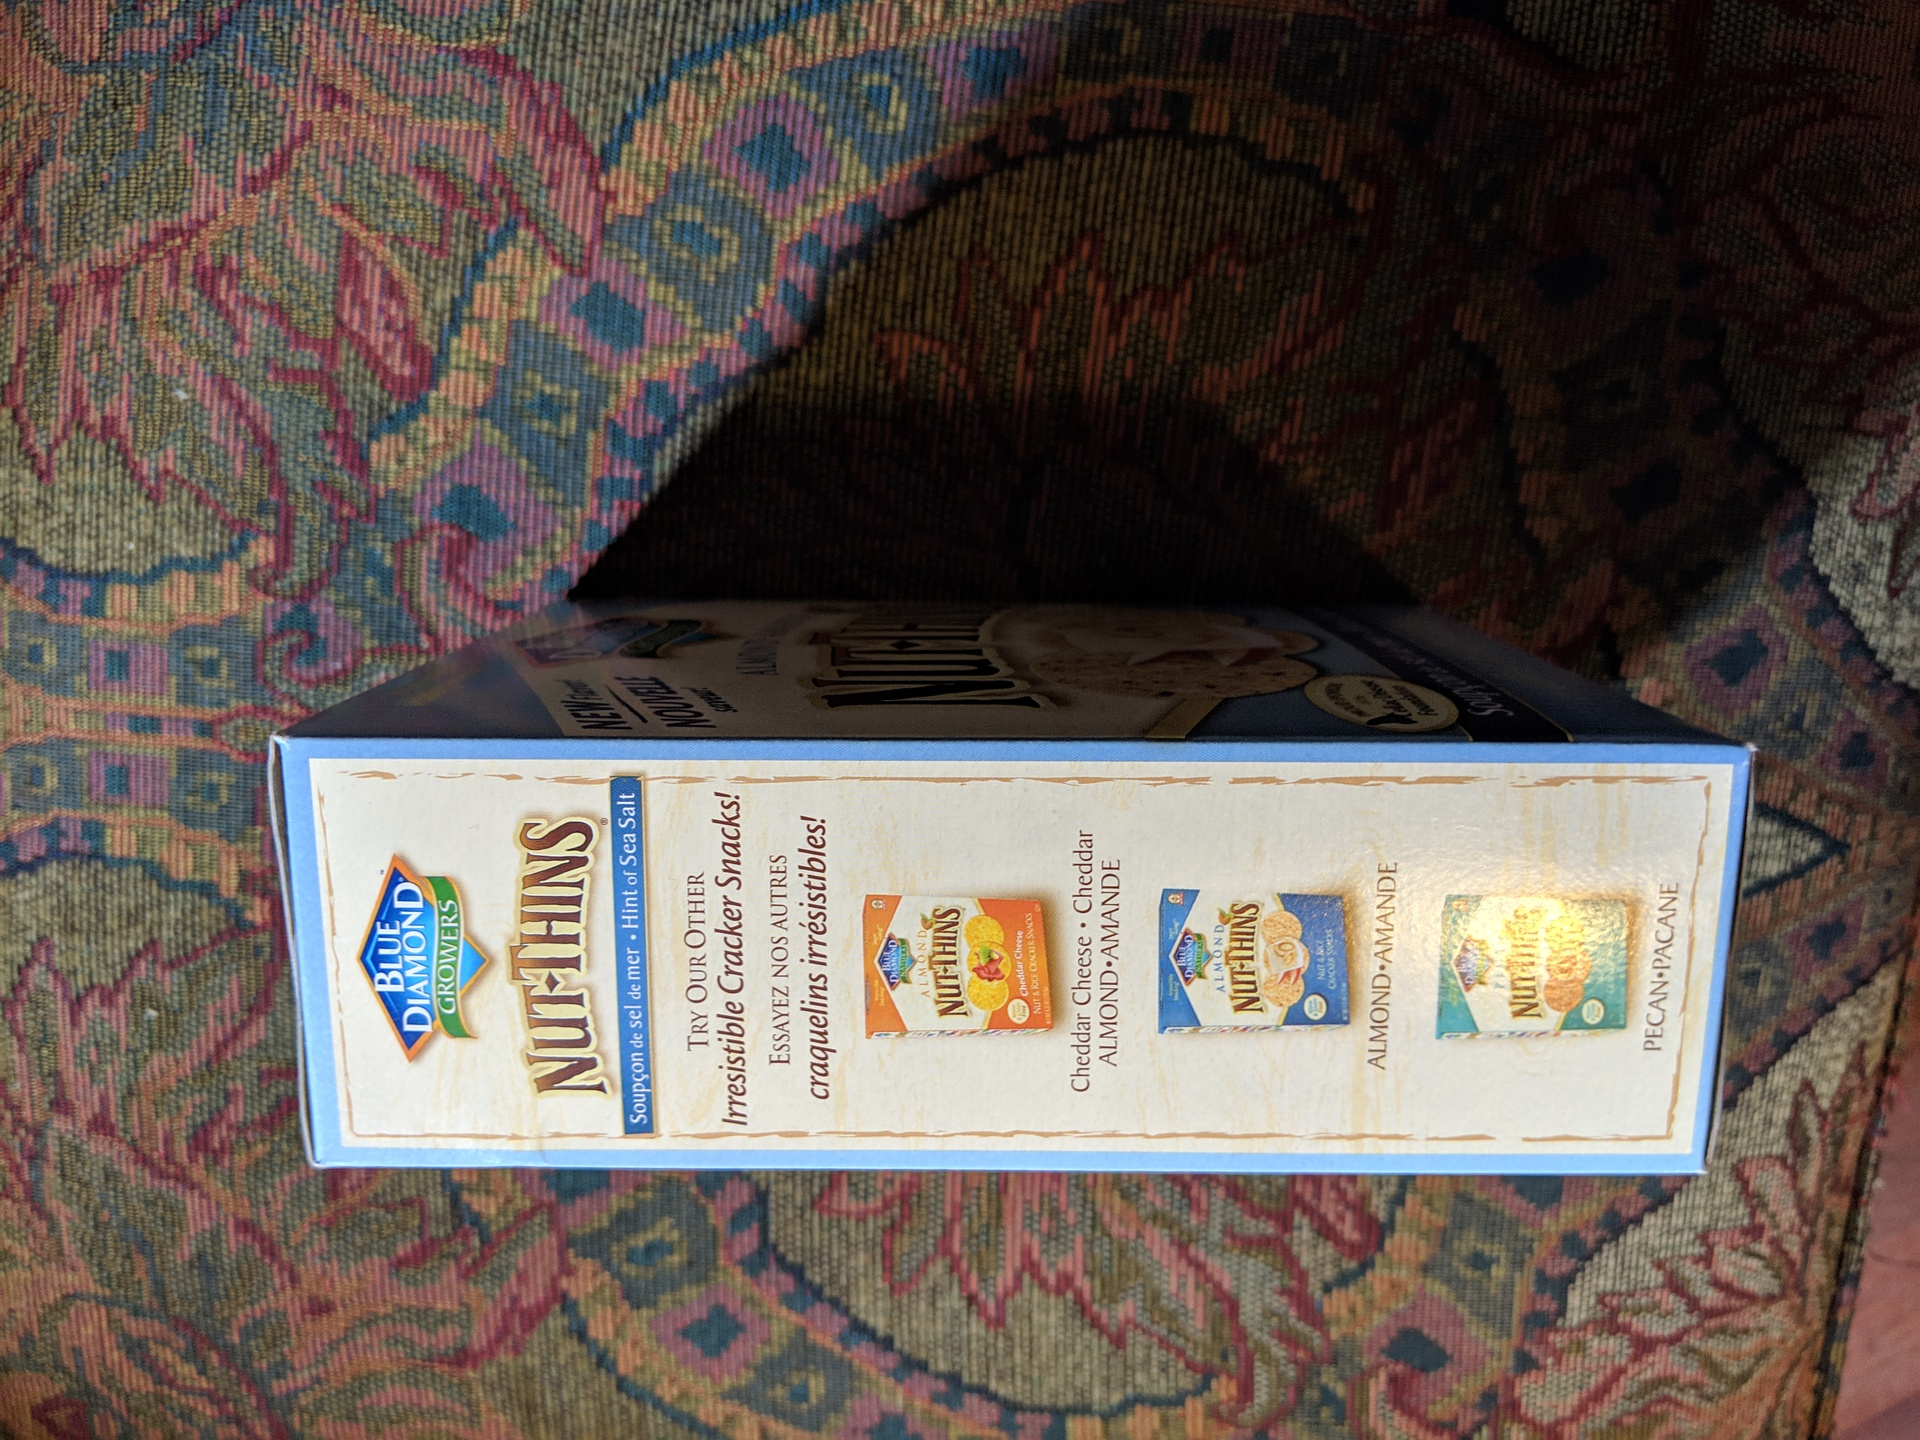blue_diamond_nut_thins_almond_seasalt: (295, 604, 1734, 1171)
